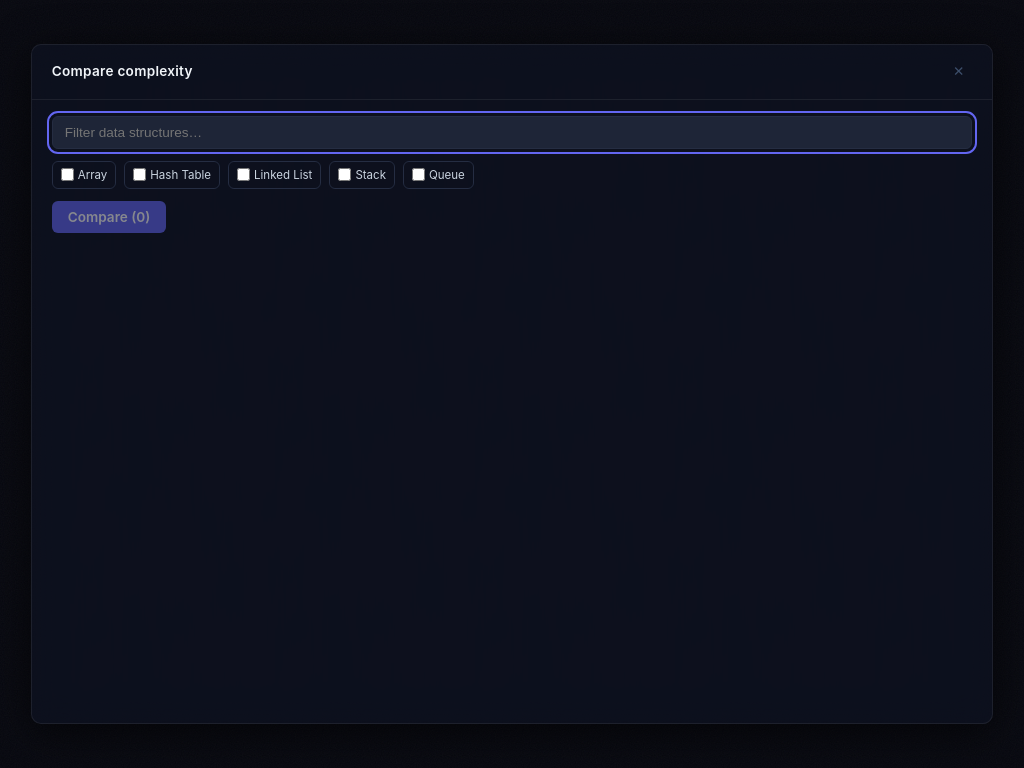
Test: ComplexityCompare › blocks a 5th pick at MAX_PICKS
Expected: the text "Array" is shown, [78,166,107,184]
Click the checkbox labelled "Array": (67, 175) [61,168,74,182]
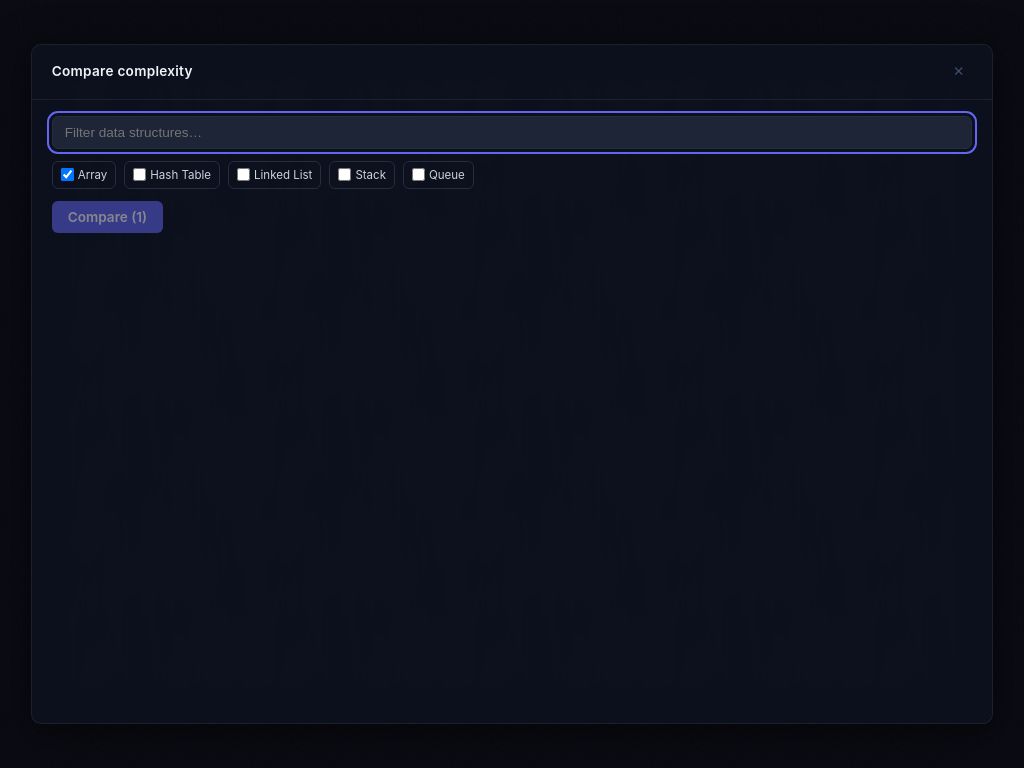
Click the checkbox labelled "Hash Table": (140, 175) [133,168,146,182]
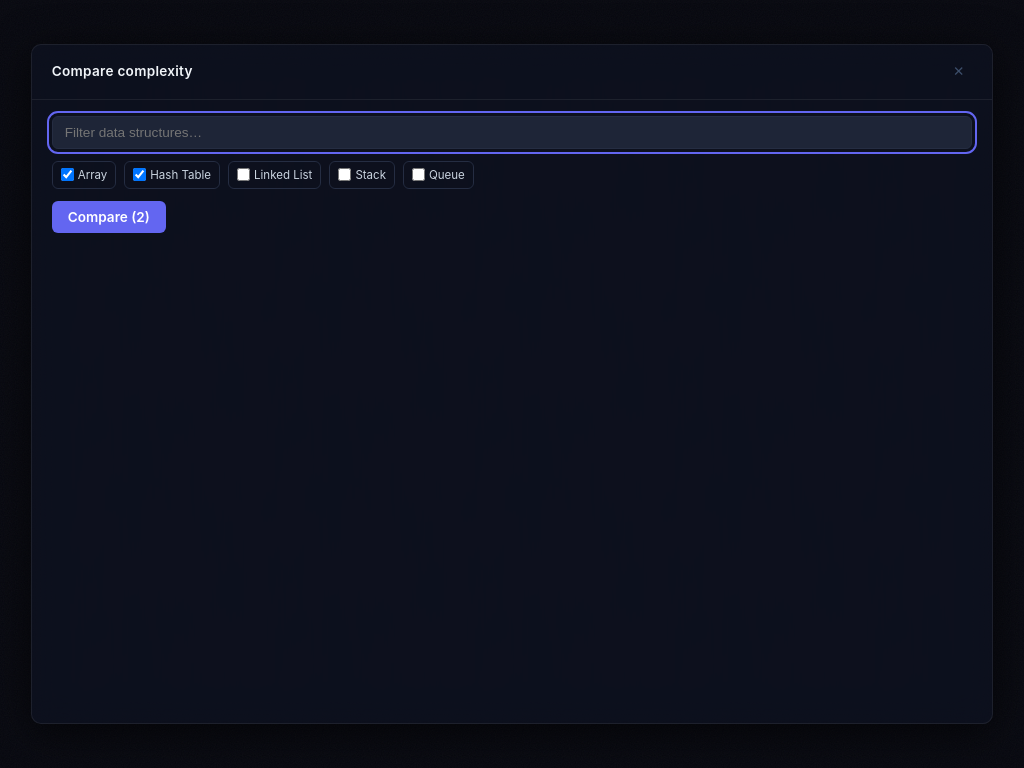
Click the checkbox labelled "Linked List": (244, 175) [237,168,250,182]
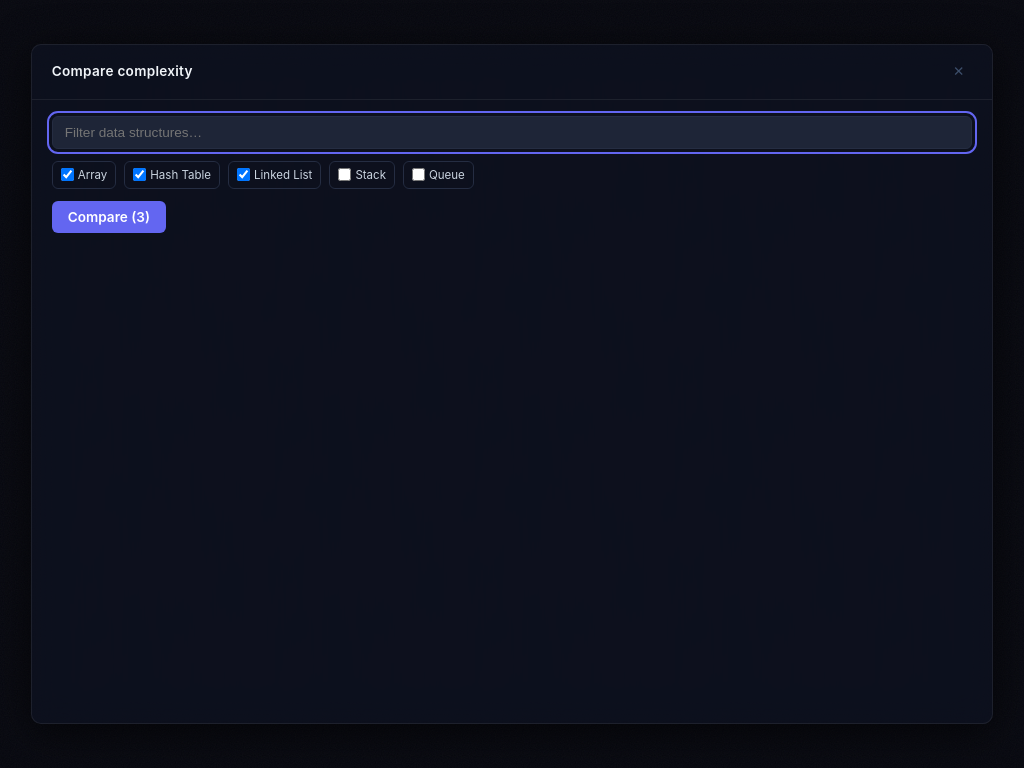
Click the checkbox labelled "Stack": (345, 175) [338,168,351,182]
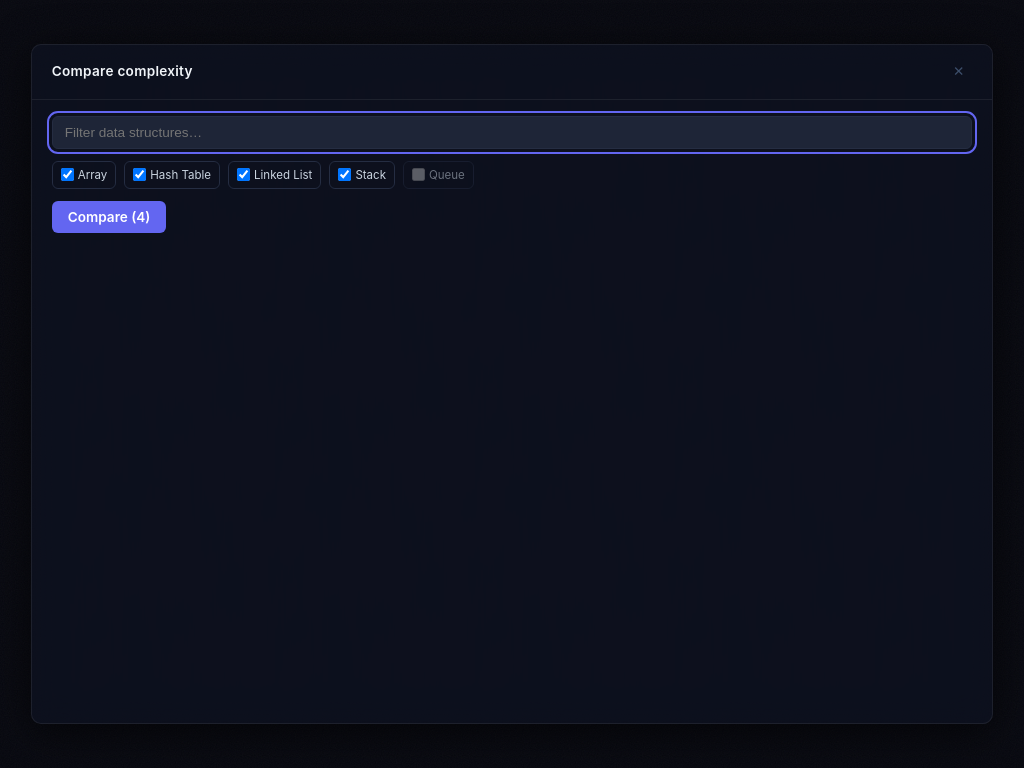
Expected: the checkbox labelled "Queue" is disabled, [412,168,425,182]
